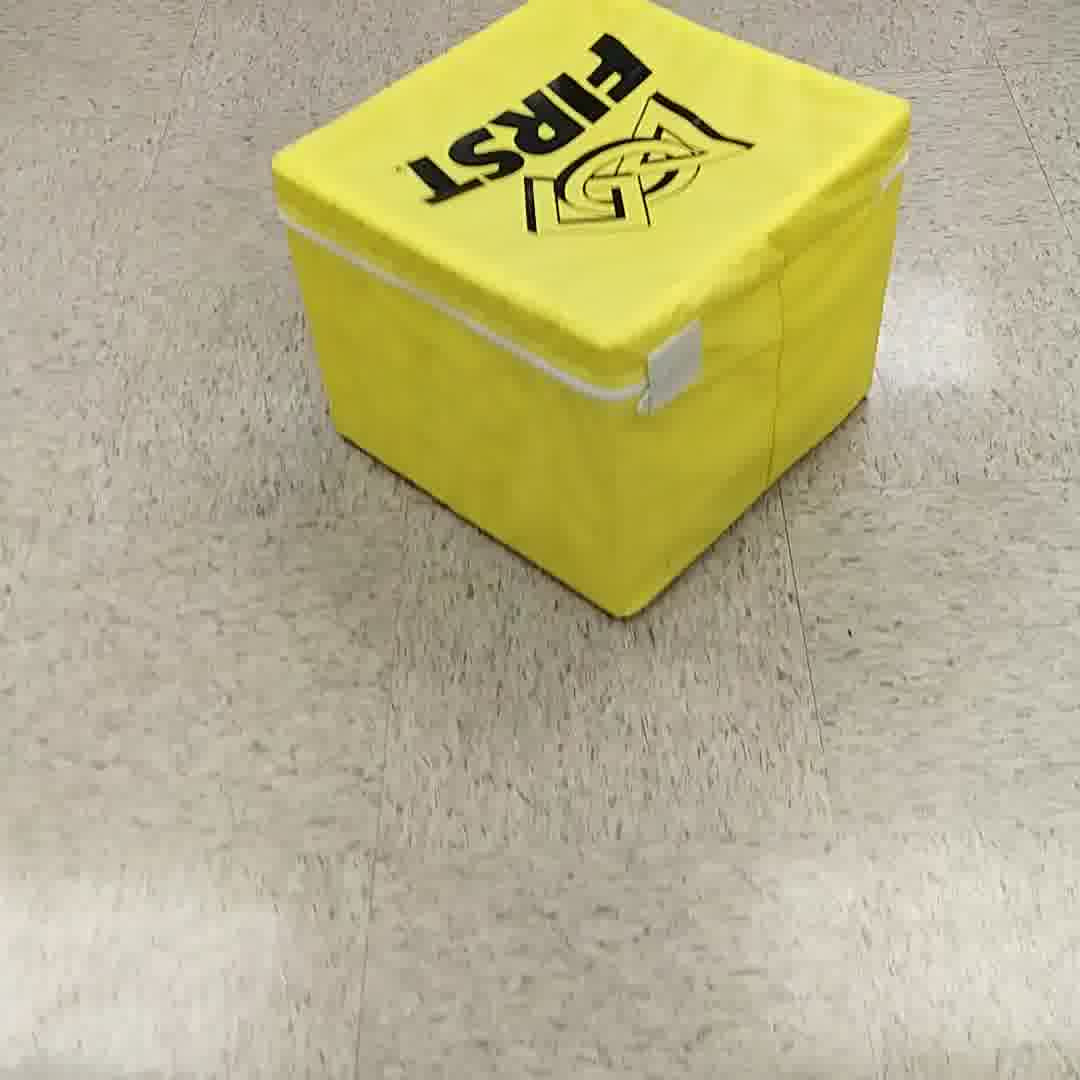box: (259, 5, 924, 636)
